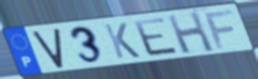3: (69, 24, 108, 67)
E: (131, 16, 182, 58)
F: (203, 8, 236, 51)
H: (164, 10, 217, 55)
K: (102, 21, 143, 60)
V: (30, 26, 66, 70)
